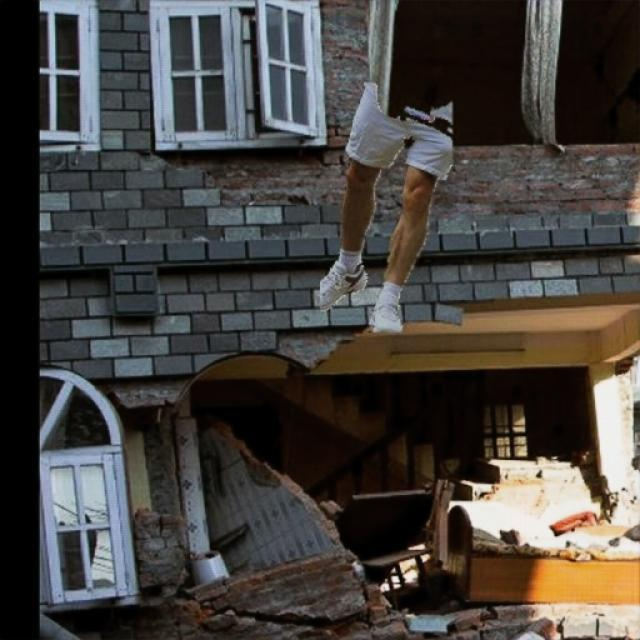Person in Rubble: (320, 82, 451, 332)
